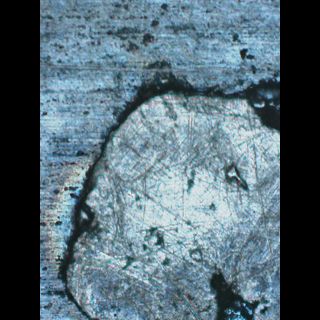d: (57, 64, 279, 319)
